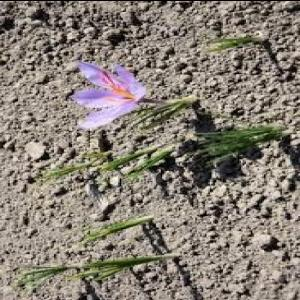Saffron: (74, 64, 148, 125)
